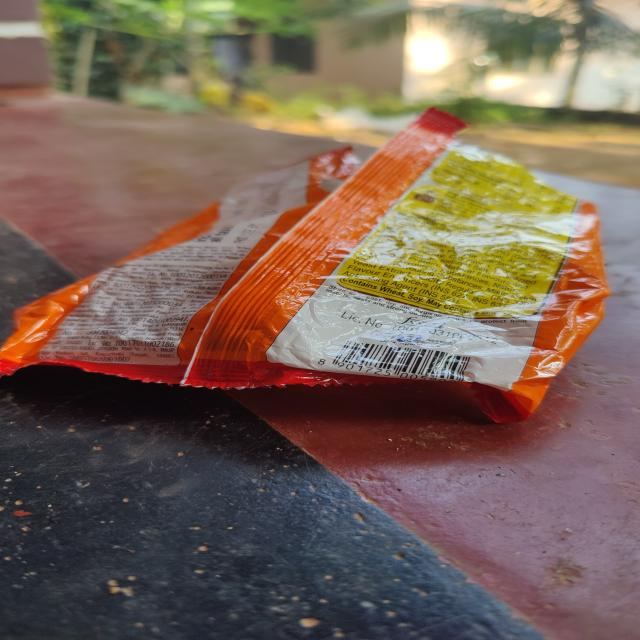plastic: (14, 112, 617, 429)
